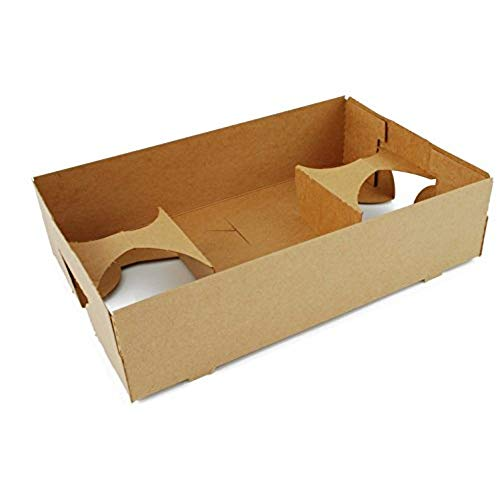Rec_Paper: (28, 90, 490, 428)
